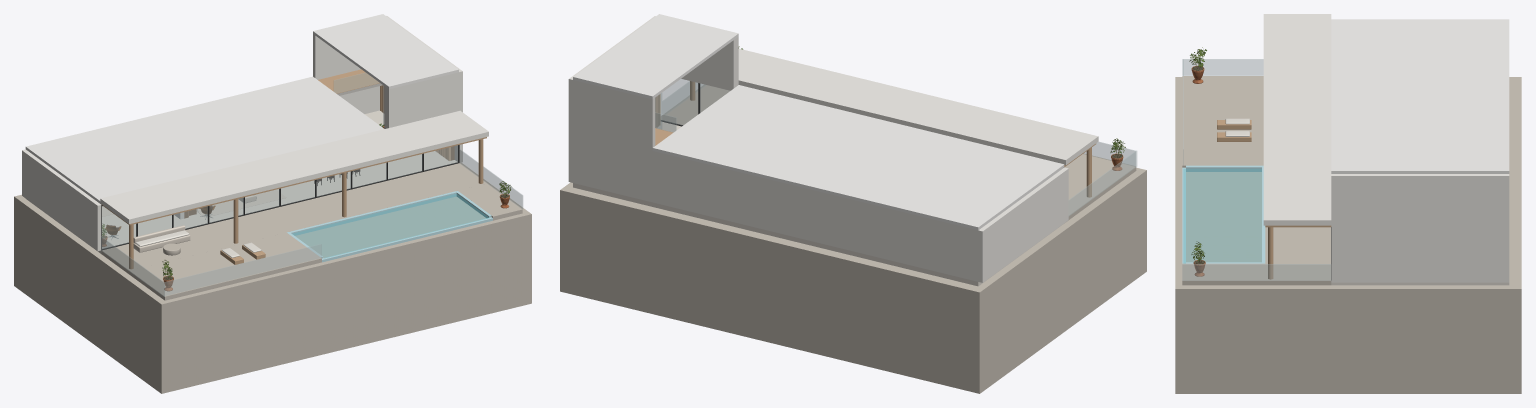
The model's file is interior.glb.
The picture shows the model from 3 angles, left to right: view 1: azimuth 30°, elevation 25°; view 2: azimuth 150°, elevation 25°; view 3: azimuth 270°, elevation 25°; orthographic projection. The views are drawn at different scales.
Parts seen in each view (by area): view 1: podium, ceiling, terrace_roof, terrace_cov, glazing, terrace_w, ceiling_tall, pool_water, floor, wall_w, bulkhead, balustrade_s (+11 smaller); view 2: podium, ceiling, wall_back, terrace_roof, wall_back_tall, ceiling_tall, wall_w, floor, glazing, terrace_w, bulkhead, terrace_cov (+4 smaller); view 3: podium, ceiling, wall_e, terrace_roof, ceiling_tall, pool_water, terrace_w, terrace_cov, balustrade_e, terrace_e, balustrade_w, floor (+3 smaller).
Part boxes in pixels (bbox=[...]): podium: bbox=[14, 163, 531, 393]; ceiling: bbox=[25, 76, 384, 204]; terrace_roof: bbox=[100, 110, 488, 223]; terrace_cov: bbox=[101, 163, 486, 274]; glazing: bbox=[102, 145, 458, 248]; terrace_w: bbox=[129, 232, 321, 300]; ceiling_tall: bbox=[313, 14, 458, 89]; pool_water: bbox=[293, 194, 488, 258]; floor: bbox=[26, 110, 456, 253]; wall_w: bbox=[22, 149, 101, 250]; bulkhead: bbox=[384, 72, 458, 128]; balustrade_s: bbox=[164, 244, 321, 295]; podium: bbox=[560, 85, 1146, 393]; ceiling: bbox=[652, 85, 1064, 230]; wall_back: bbox=[652, 151, 978, 281]; terrace_roof: bbox=[738, 48, 1098, 165]; wall_back_tall: bbox=[573, 80, 655, 202]; ceiling_tall: bbox=[573, 14, 738, 99]; wall_w: bbox=[978, 167, 1068, 282]; floor: bbox=[573, 122, 1063, 286]; glazing: bbox=[661, 79, 729, 125]; terrace_w: bbox=[1065, 153, 1136, 199]; bulkhead: bbox=[681, 37, 738, 90]; terrace_cov: bbox=[661, 98, 1096, 223]; podium: bbox=[1175, 77, 1521, 393]; ceiling: bbox=[1331, 19, 1509, 130]; wall_e: bbox=[1331, 174, 1509, 282]; terrace_roof: bbox=[1263, 14, 1331, 225]; ceiling_tall: bbox=[1331, 130, 1509, 173]; pool_water: bbox=[1183, 169, 1261, 263]; terrace_w: bbox=[1182, 76, 1263, 167]; terrace_cov: bbox=[1265, 227, 1331, 285]; balustrade_e: bbox=[1182, 264, 1330, 280]; terrace_e: bbox=[1182, 263, 1265, 285]; balustrade_w: bbox=[1182, 59, 1263, 75]; floor: bbox=[1331, 282, 1509, 285].
Bounding box in the file's own units: 29 × 14 × 20.
Materials: 56 (40 with a texture image).
